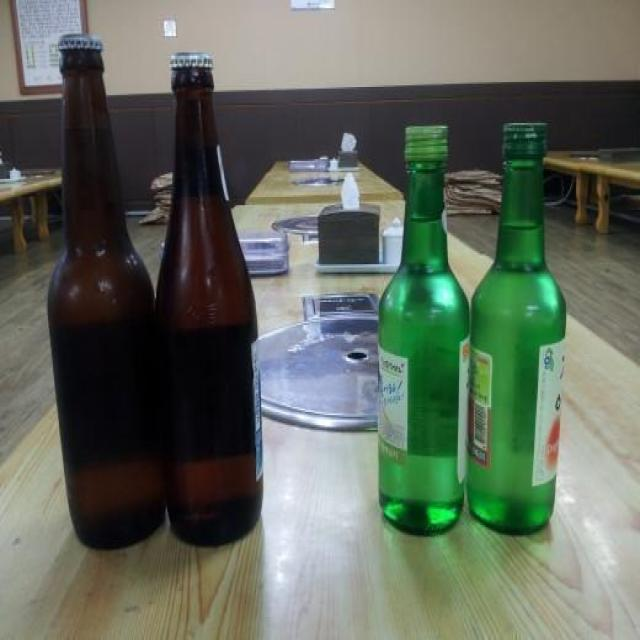beer-bottle: (36, 29, 165, 548), (154, 52, 260, 544)
soju-bottle: (464, 137, 570, 533), (376, 143, 472, 540)
